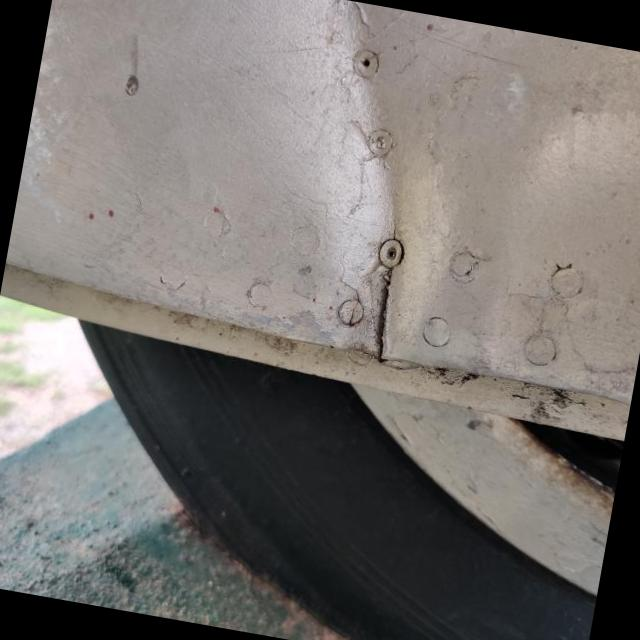Crack: (352, 262, 393, 357)
